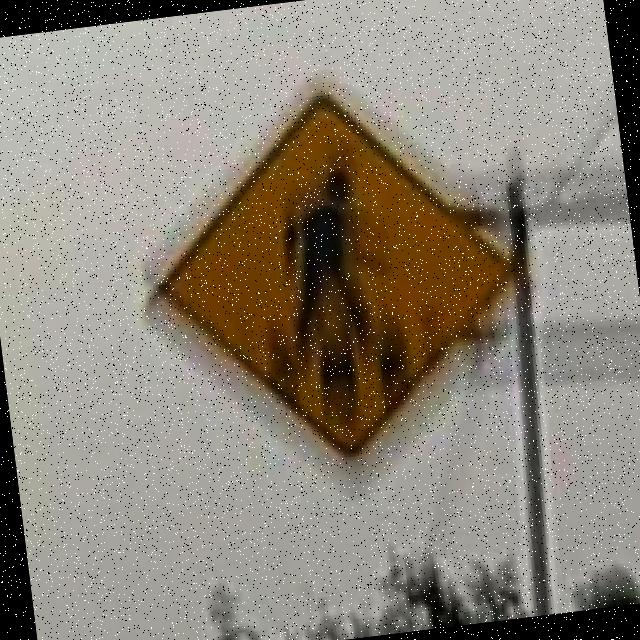Przejscie dla pieszych: (167, 74, 536, 464)
